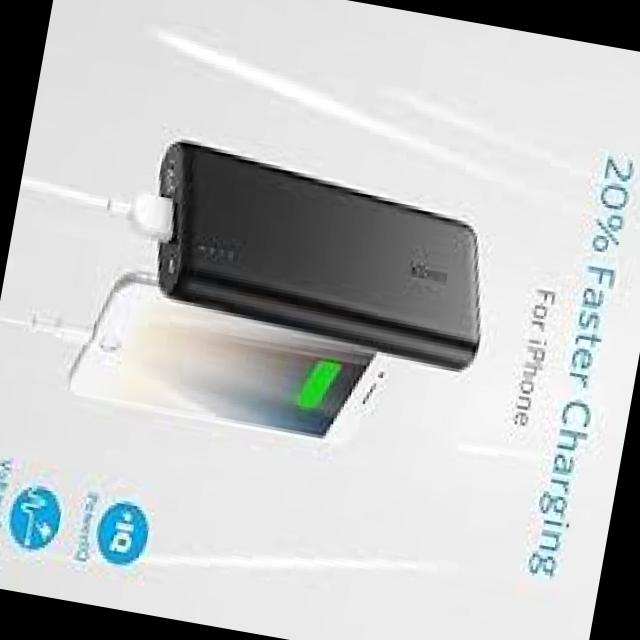power_bank: (128, 134, 508, 380)
